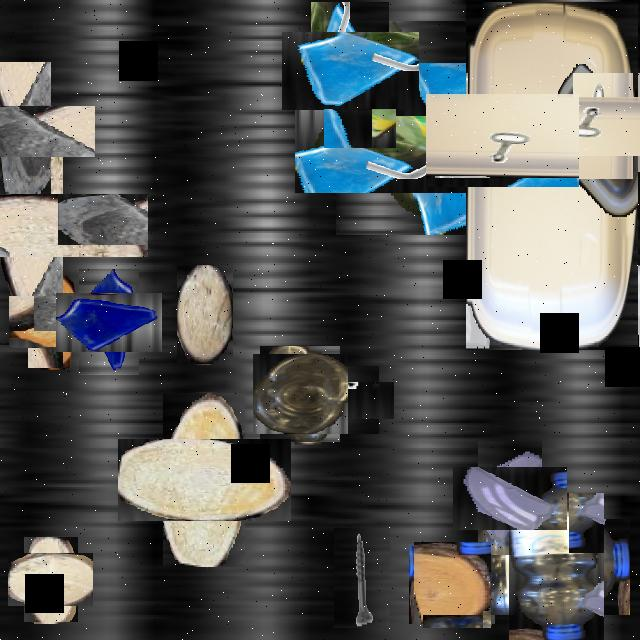glass: (296, 17, 404, 125), (466, 453, 554, 542), (68, 280, 150, 364), (0, 84, 73, 178), (612, 234, 640, 380), (624, 73, 640, 172)
metal: (561, 84, 640, 167), (334, 528, 390, 628), (332, 100, 388, 156), (334, 374, 386, 426)
plastic: (466, 2, 638, 350), (315, 42, 487, 214), (441, 79, 565, 202), (495, 506, 617, 628), (256, 351, 344, 438)
wood: (140, 416, 268, 544), (0, 151, 105, 300), (411, 544, 493, 626), (177, 265, 233, 364), (18, 286, 90, 358), (16, 545, 86, 614)
